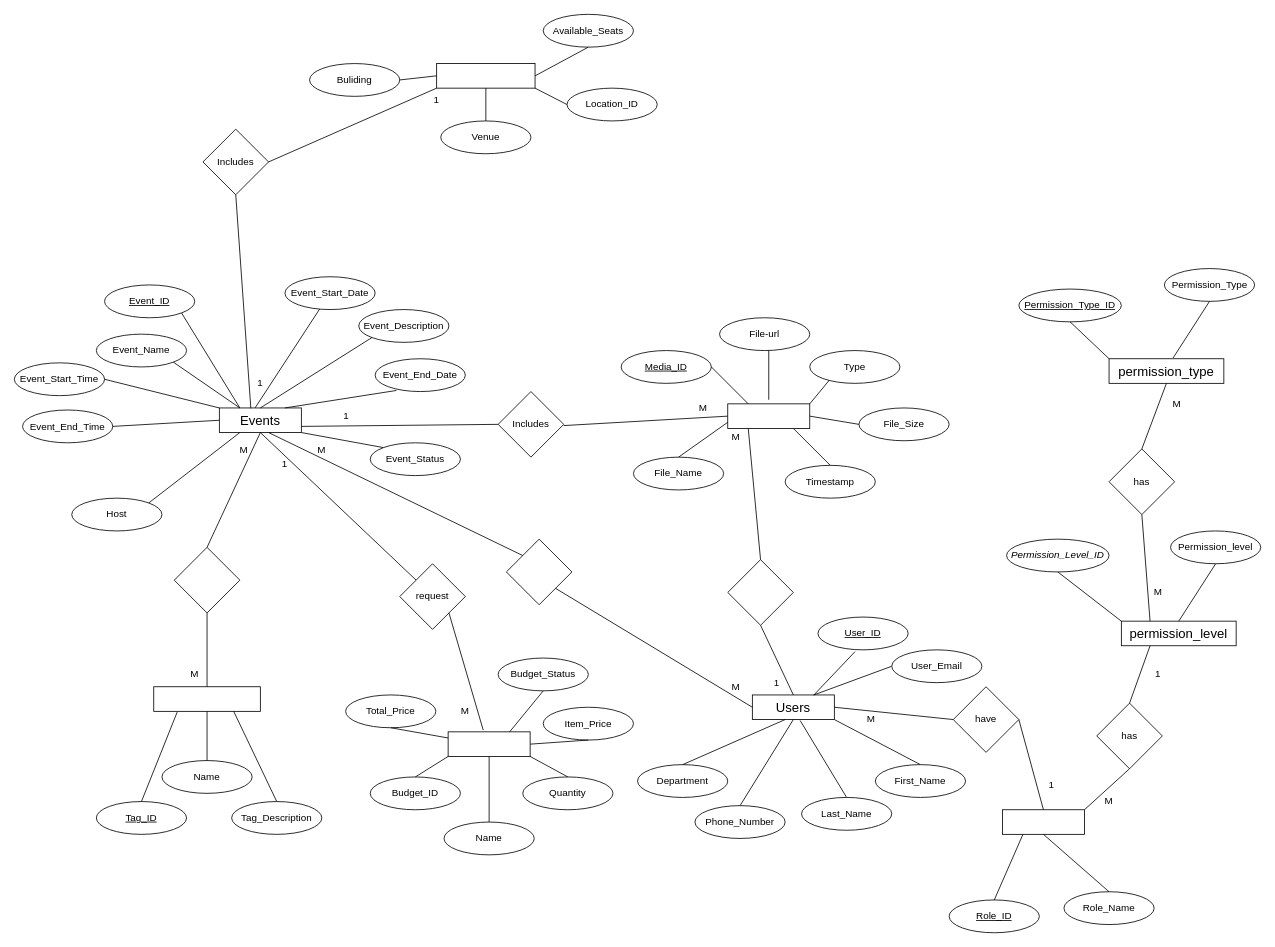
Some shapes in this 1275 by 947 pixel diagram are drawn without their labels. Here are the shapes that lost their labels. From the top down, the centre of each, then its label:
At (x=485, y=75): "Event location".
At (x=768, y=415): "Media".
At (x=206, y=580): "Associated with".
At (x=539, y=571): "Create".
At (x=760, y=592): "Upload".
At (x=206, y=698): "Tags/categories".
At (x=488, y=743): "Budget".
At (x=1043, y=821): "Role".
